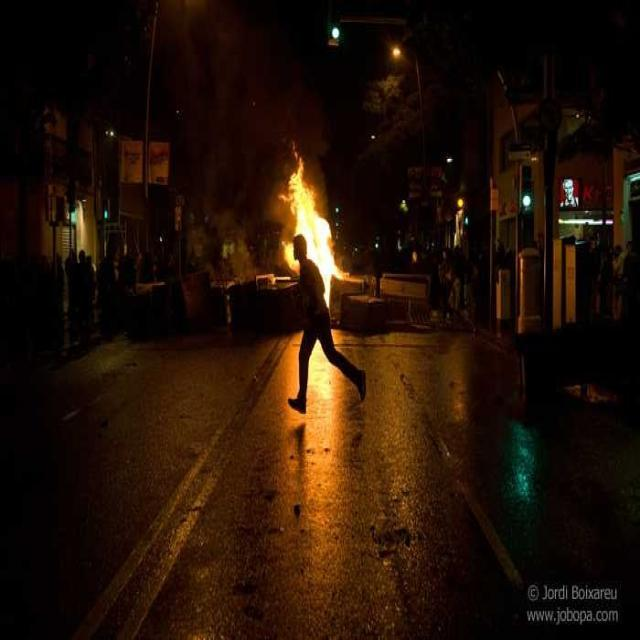Fire: (305, 224, 329, 259), (296, 185, 310, 218)
